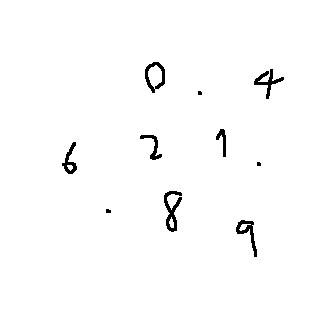.: (100, 198, 118, 225), (100, 196, 118, 223), (193, 84, 206, 100), (252, 157, 265, 173)
0: (136, 55, 173, 95)
1: (211, 128, 234, 164)
2: (136, 129, 167, 165)
4: (251, 64, 290, 102)
6: (56, 134, 85, 183)
8: (156, 183, 187, 239)
9: (228, 214, 271, 265)
